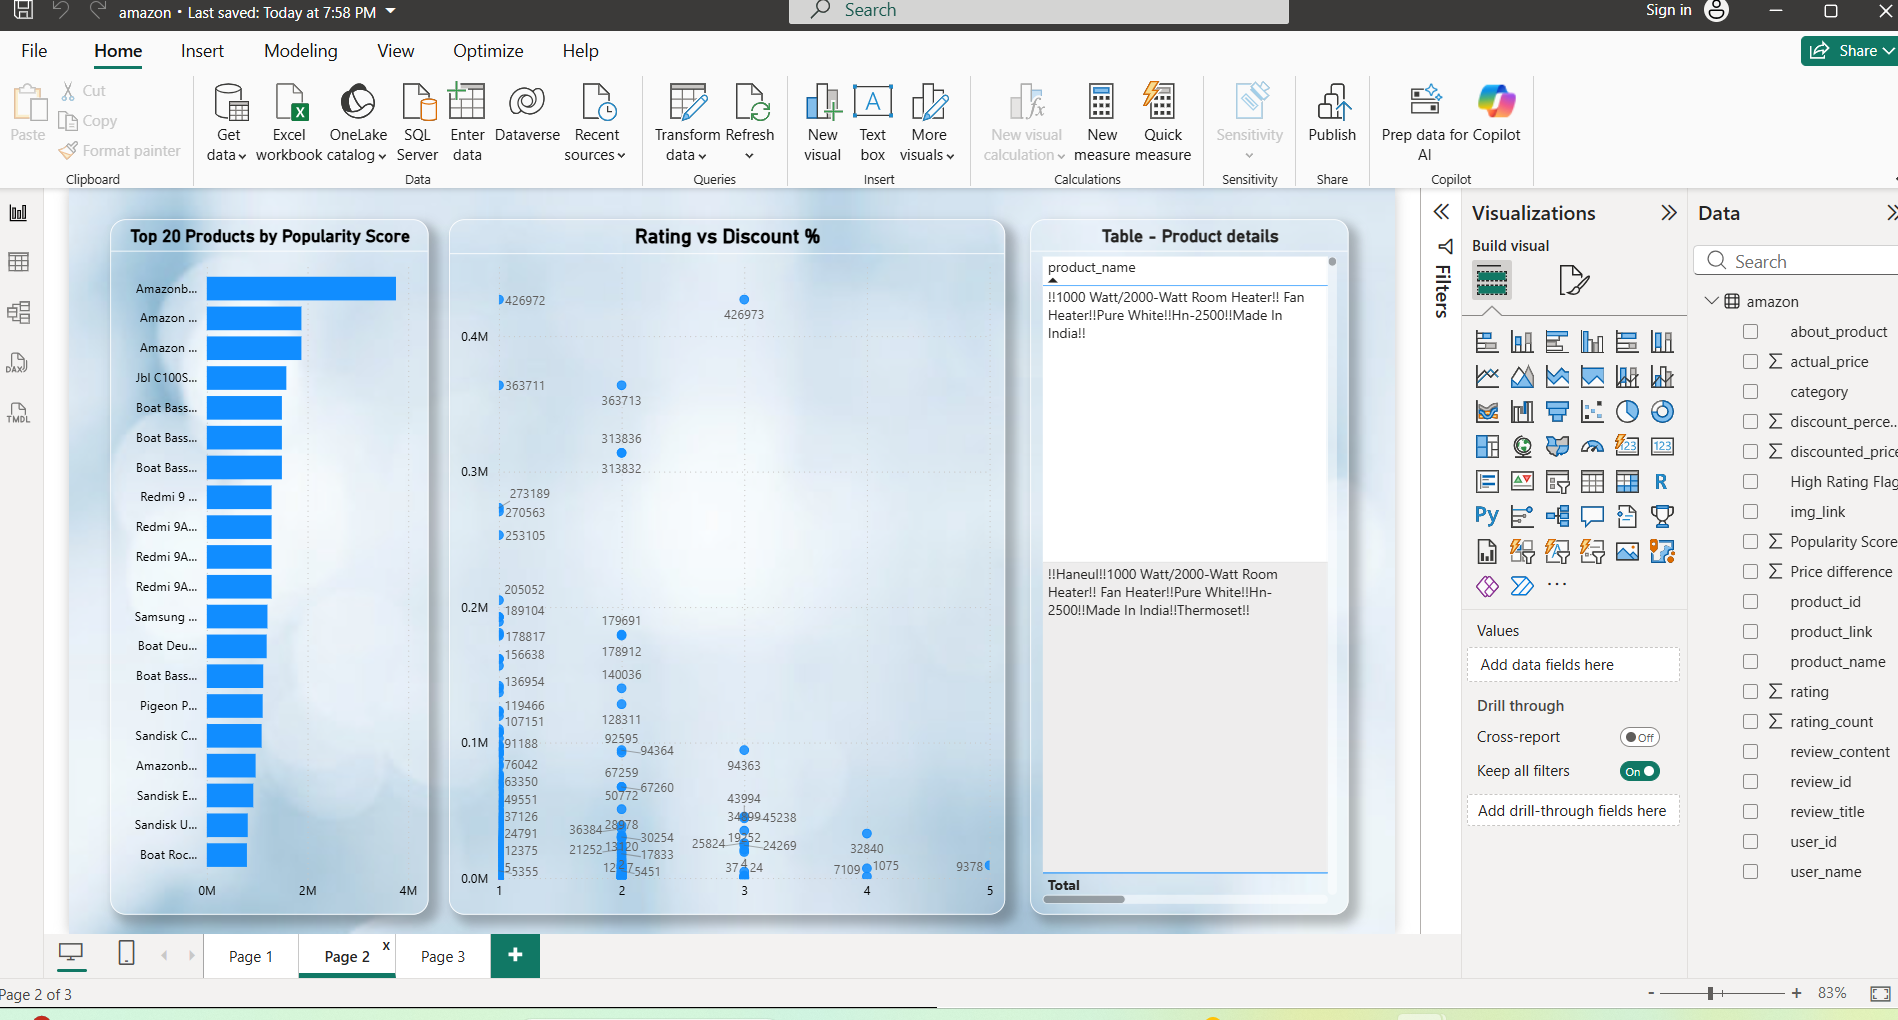

Layout of this report page (visuals, bound fields, positions):
{"tool":"powerbi","page":{"name":"Page 2","canvas":[1280,720],"ordinal":1},"visuals":[{"type":"barChart","title":"Top 20 Products by Popularity Score","fields":{"Y":["Sum(amazon.Popularity Score)"],"Category":["amazon.product_name"]},"box":[39.8,30.2,307.4,671],"z":0},{"type":"scatterChart","title":"Rating vs Discount %","fields":{"X":["Count(amazon.discount_percentage)"],"Y":["amazon.rating_count"]},"box":[366.4,30.2,536.5,671],"z":1000},{"type":"tableEx","title":"Table - Product details","fields":{"Values":["amazon.product_name","Count(amazon.actual_price)","Count(amazon.rating)","Count(amazon.Popularity Score)","amazon.review_content"]},"box":[927.6,30.2,307.4,671],"z":2000}]}

Visuals, with their boxes on the page's 1280x720 design canvas (x1, y1, x2, y2). These are canvas units, not pixel positions in the 1898x1020 screenshot, which may show the page scaled, cropped or inside an application window:
"Top 20 Products by Popularity Score" barChart: l=40, t=30, r=347, b=701
"Rating vs Discount %" scatterChart: l=366, t=30, r=903, b=701
"Table - Product details" tableEx: l=928, t=30, r=1235, b=701
